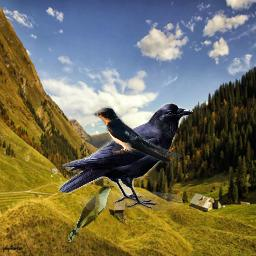Crow: (58, 103, 193, 210)
Cuckoo: (68, 185, 114, 242)
Swallow: (92, 105, 183, 163)
